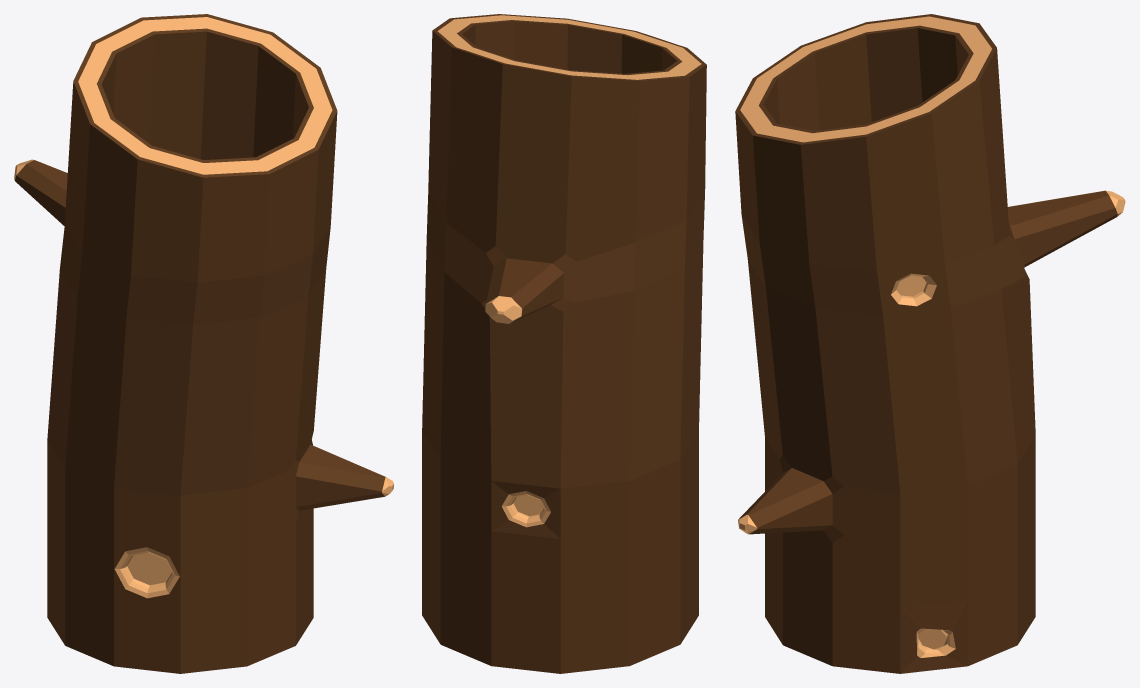
Rendered from Bark.glb.
3 renders of one model, left to right at view 1: azimuth 30°, elevation 25°; view 2: azimuth 150°, elevation 25°; view 3: azimuth 270°, elevation 25°, orthographic. The views are drawn at different scales.
Parts seen in each view (by area): view 1: Falen tree; view 2: Falen tree; view 3: Falen tree.
Boxes of the visible parts, box(x1,y1,x2,y2) form: Falen tree: box(14, 14, 393, 673); Falen tree: box(422, 14, 706, 673); Falen tree: box(735, 14, 1125, 673).
Size of the model in its own units: 1.18 by 2.5 by 1.54.
